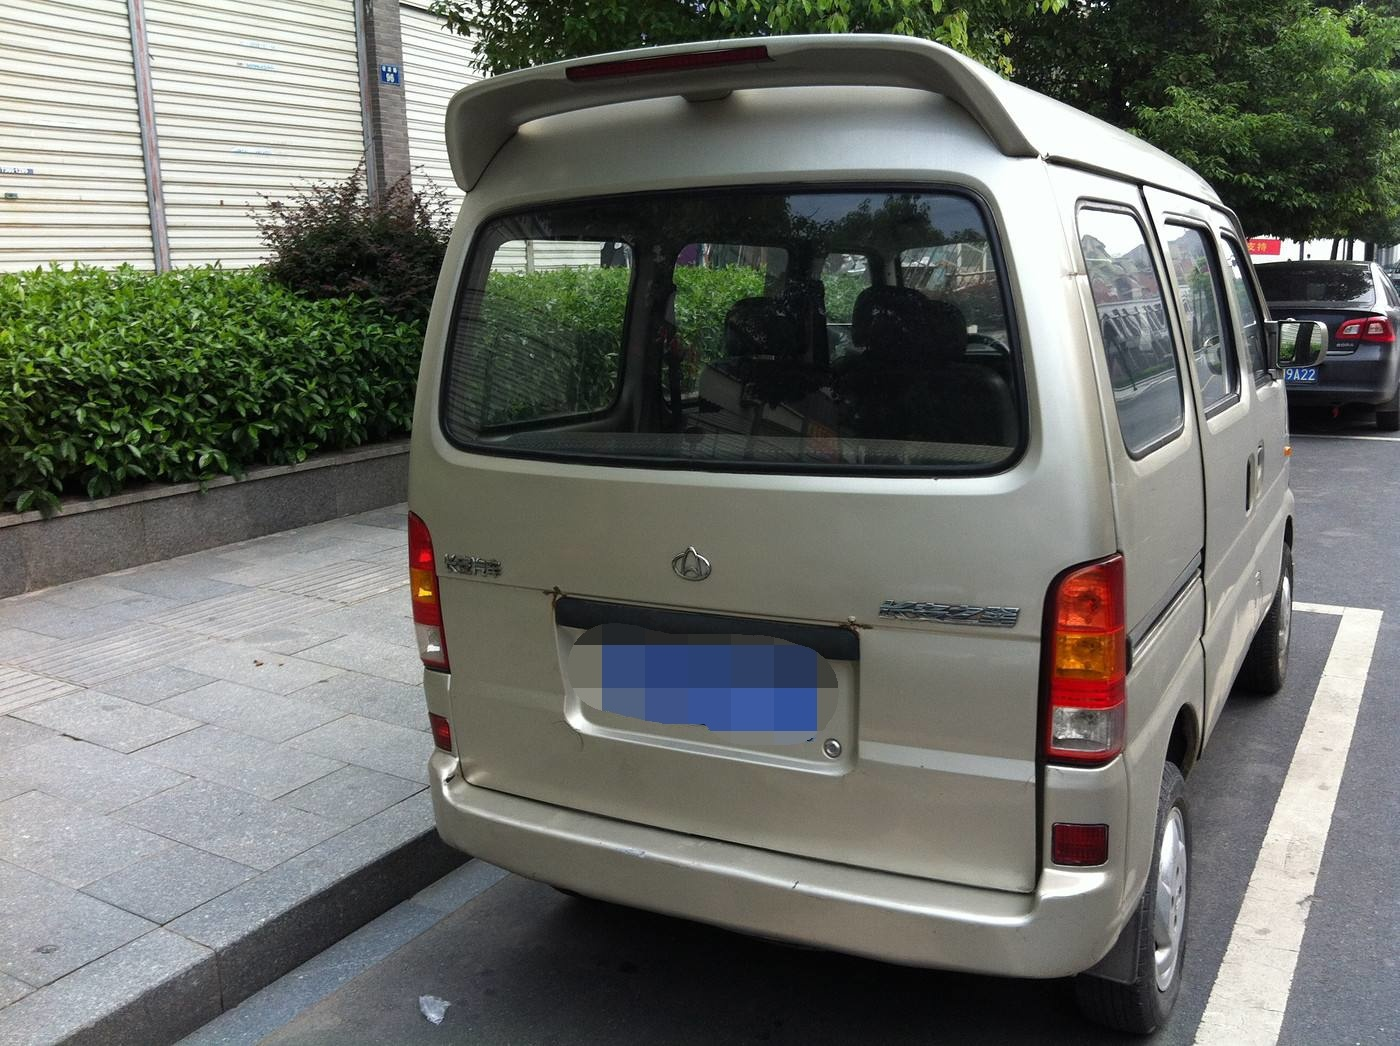minibus: (393, 55, 1316, 1004)
